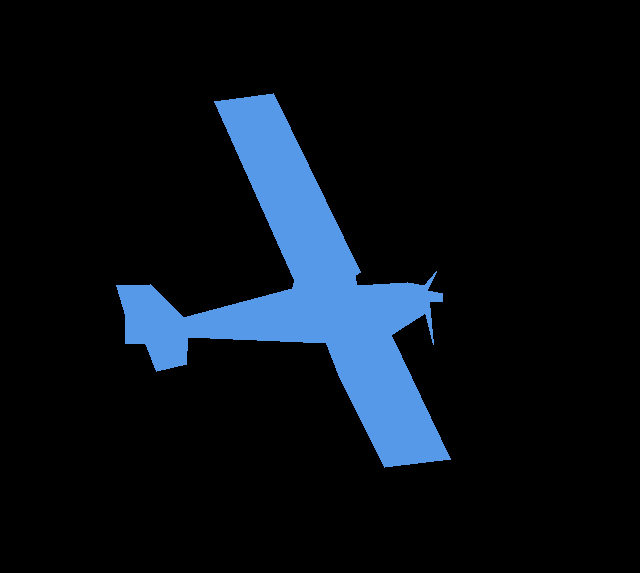Airplane: (116, 93, 450, 467)
